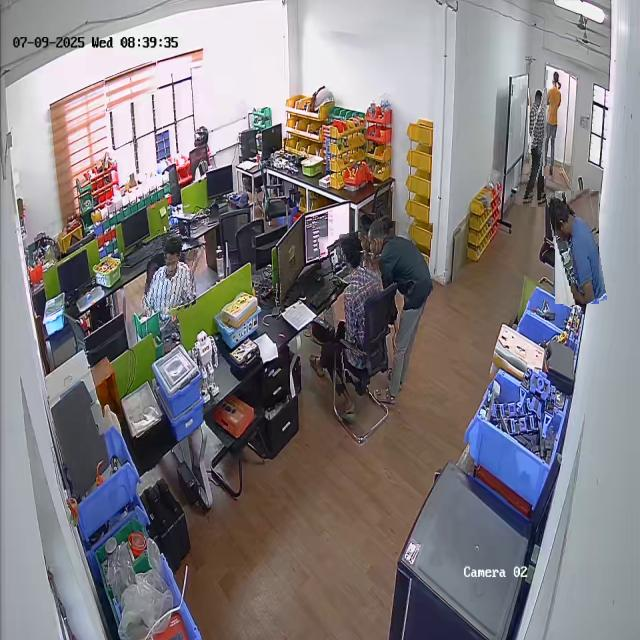person: (372, 222, 434, 406), (322, 233, 384, 383), (551, 190, 603, 305), (144, 233, 202, 317), (520, 88, 554, 207), (543, 70, 564, 176)
